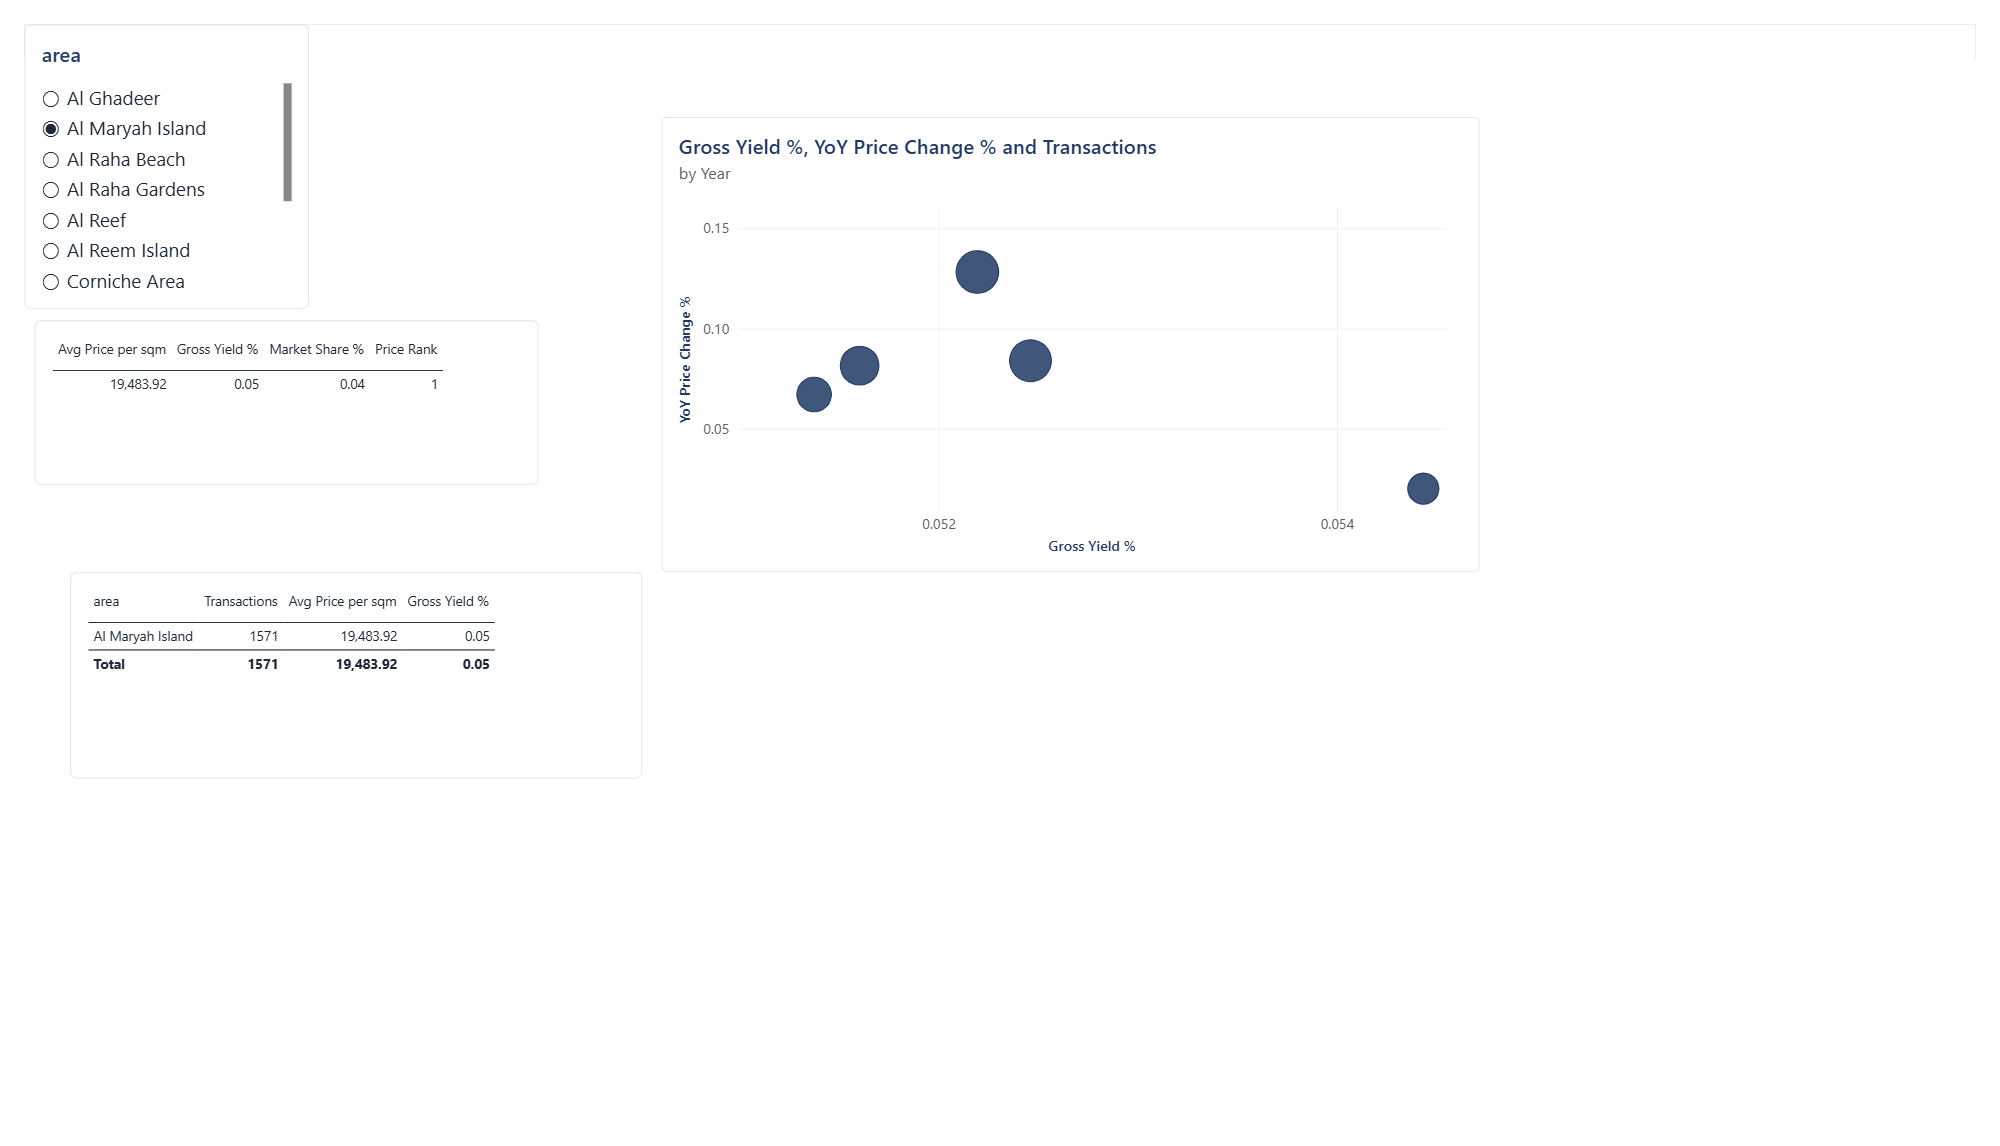

The page's visual inventory and layout, read from the dashboard file:
{"tool":"powerbi","page":{"name":"Area Deep dive and value","canvas":[1920,1080],"ordinal":1},"visuals":[{"type":"listSlicer","fields":{"Values":["DimArea.area"]},"box":[0,0,280,280],"z":0},{"type":"tableEx","fields":{"Values":["_Measures.Avg Price per sqm","_Measures.Gross Yield %","_Measures.Market Share %","_Measures.Price Rank"]},"box":[9.5,291.1,496.3,162.2],"z":1},{"type":"scatterChart","fields":{"Category":["DimDate.Year"],"Size":["_Measures.Transactions"],"X":["_Measures.Gross Yield %"],"Y":["_Measures.YoY Price Change %"]},"box":[627.5,90.7,804.1,448.6],"z":2},{"type":"tableEx","fields":{"Values":["DimArea.area","_Measures.Transactions","_Measures.Avg Price per sqm","_Measures.Gross Yield %"]},"box":[45.3,539.2,563.1,202.8],"z":3}]}

Visuals, with their boxes in screenshot pixels (x1, y1, x2, y2), scaled from the page's 1920x1080 canvas onto the 2000x1146 screenshot:
listSlicer - DimArea.area: (x1=0, y1=0, x2=292, y2=297)
tableEx - _Measures.Avg Price per sqm x _Measures.Gross Yield %: (x1=10, y1=309, x2=527, y2=481)
scatterChart - DimDate.Year x _Measures.Transactions: (x1=654, y1=96, x2=1491, y2=572)
tableEx - DimArea.area x _Measures.Transactions: (x1=47, y1=572, x2=634, y2=787)
